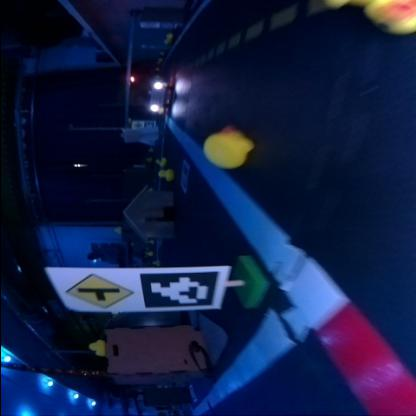Duckie: (200, 126, 251, 168), (86, 338, 104, 356), (157, 168, 171, 180), (155, 158, 165, 166), (151, 260, 158, 266)
Duckiebot: (140, 80, 170, 112)
Intersection sign: (62, 273, 134, 308)
QR code: (140, 270, 218, 308)
Traffic light: (125, 74, 133, 82)
